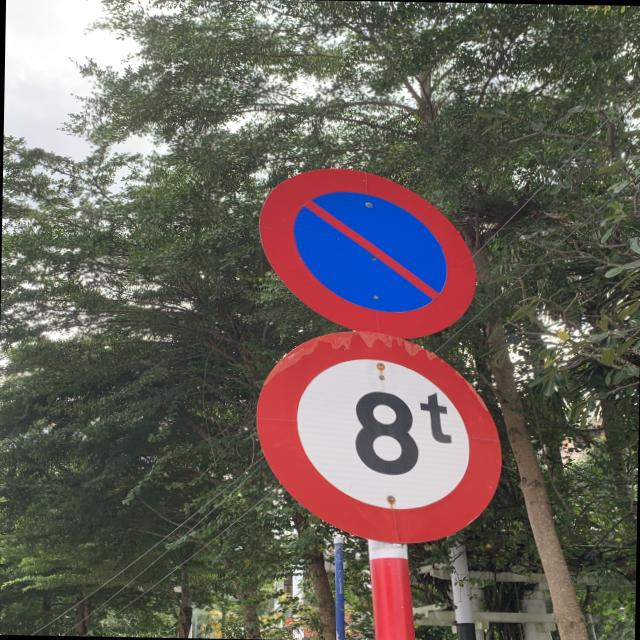Cam_Dau_Xe: (259, 165, 477, 339)
